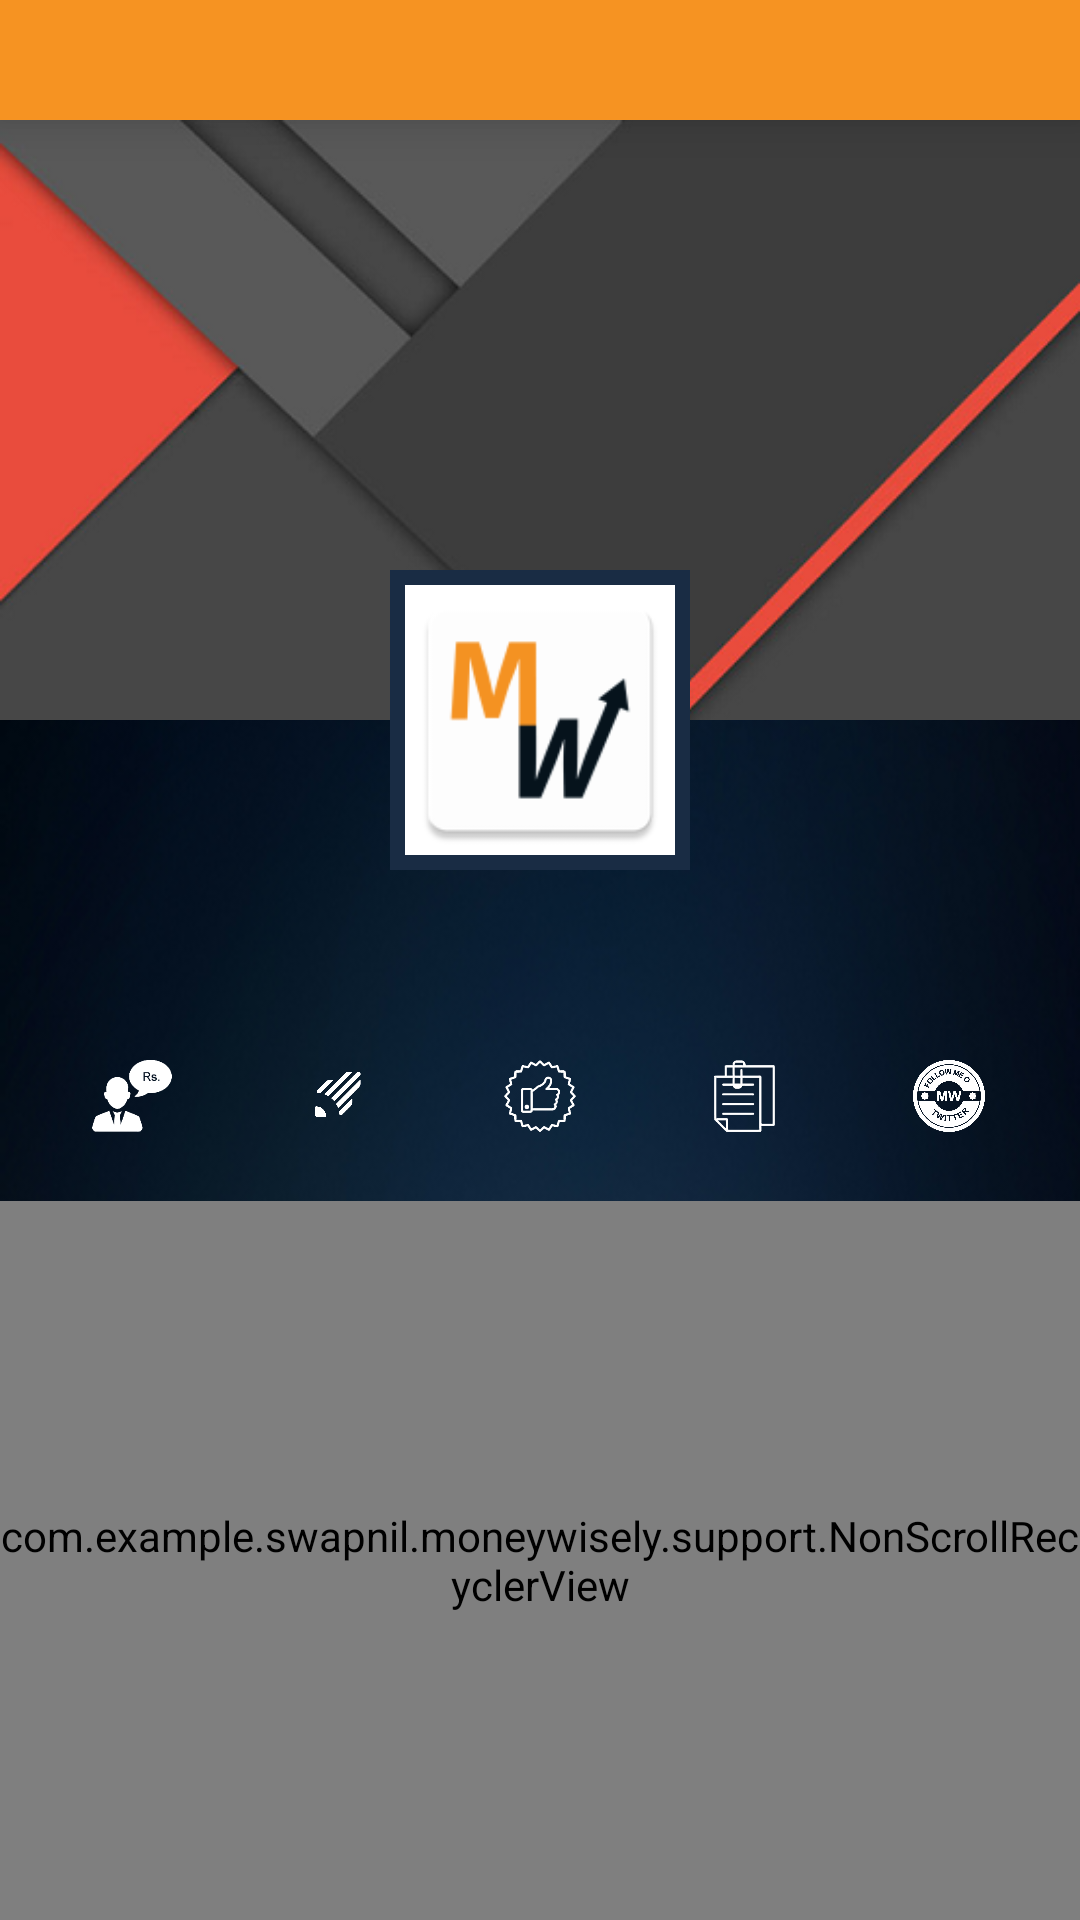

Named icons in this screenshot (1080x1920) and their bounding boxes, (x1, y1, x2, y2):
pro bio: (92, 1060, 172, 1132)
pro doc: (714, 1060, 775, 1132)
pro like: (504, 1060, 576, 1132)
